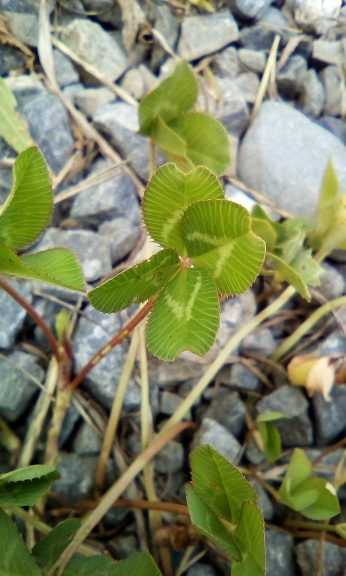4leaf: (86, 161, 268, 364)
